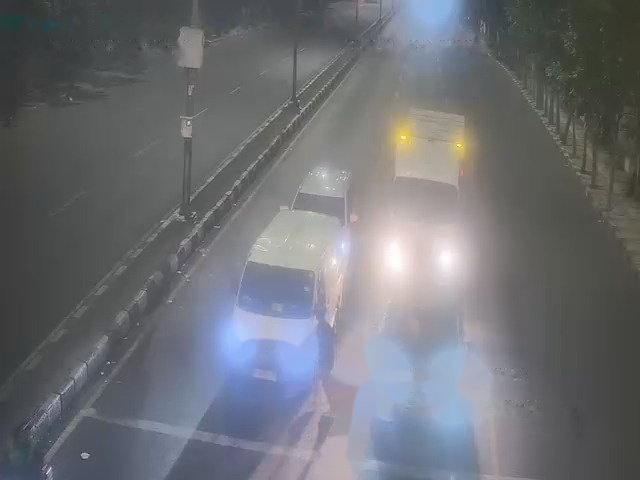Mobil: (230, 212, 343, 383), (381, 281, 460, 407), (283, 158, 359, 252)
Truk: (382, 111, 469, 282)
